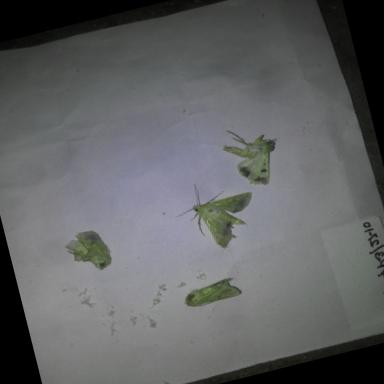abw: (164, 167, 268, 263), (212, 114, 292, 198), (55, 218, 127, 282), (174, 264, 250, 320)
